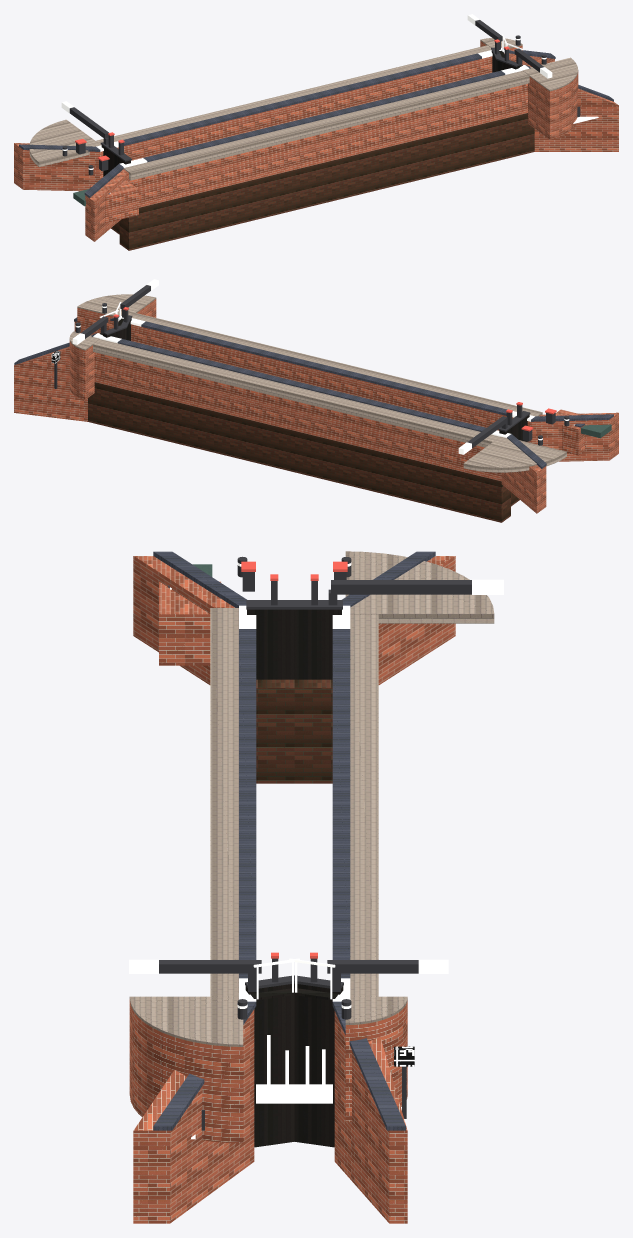
Rendered from lock-34.glb.
The picture shows the model from 3 angles, top to bottom: view 1: azimuth 30°, elevation 25°; view 2: azimuth 150°, elevation 25°; view 3: azimuth 270°, elevation 25°; orthographic projection. The views are drawn at different scales.
Visible parts, largest first — view 1: Chamber, ChamberWet, Edge, Coping.001, TopGateCap, Coping, TopGate; view 2: Chamber, ChamberWet, Edge, Coping.001, TopGateCap, Coping, TopGate; view 3: Chamber, Edge, Coping.001, TopGate, TopGateCap, ChamberWet, Coping, Leak.
Boxes of the visible parts, bbox=[...] form: Chamber: bbox=[14, 41, 618, 241]; ChamberWet: bbox=[111, 113, 534, 250]; Edge: bbox=[29, 38, 578, 180]; Coping.001: bbox=[19, 49, 613, 197]; TopGateCap: bbox=[62, 20, 580, 175]; Coping: bbox=[61, 14, 552, 169]; TopGate: bbox=[101, 50, 522, 176]; Chamber: bbox=[14, 299, 618, 513]; ChamberWet: bbox=[88, 382, 519, 522]; Edge: bbox=[69, 294, 566, 472]; Coping.001: bbox=[14, 315, 613, 468]; TopGateCap: bbox=[54, 285, 569, 447]; Coping: bbox=[72, 279, 569, 454]; TopGate: bbox=[100, 318, 529, 441]; Chamber: bbox=[129, 556, 455, 1223]; Edge: bbox=[129, 551, 494, 1046]; Coping.001: bbox=[153, 551, 435, 1130]; TopGate: bbox=[245, 609, 343, 1147]; TopGateCap: bbox=[159, 556, 471, 1130]; ChamberWet: bbox=[256, 679, 332, 783]; Coping: bbox=[129, 562, 503, 1008]; Leak: bbox=[170, 587, 332, 1139].
Size of the model in its own units: 33.23 by 5.91 by 10.24.
11 materials, 8 textured.
